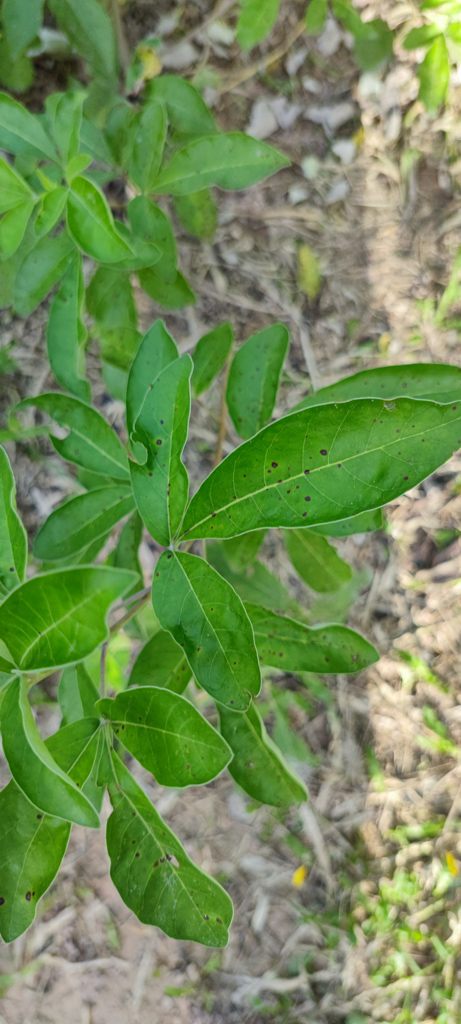Alternaria brassicicola: (117, 822, 225, 936), (261, 437, 354, 523), (255, 616, 366, 670), (140, 398, 186, 502), (109, 707, 159, 743)
